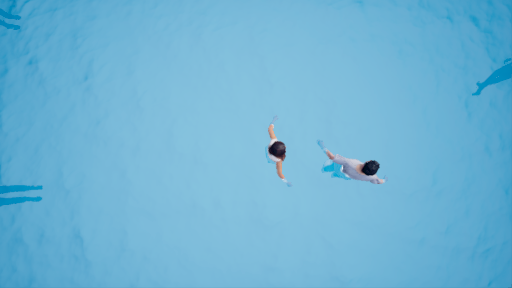person: (311, 134, 393, 188), (253, 117, 297, 188)
